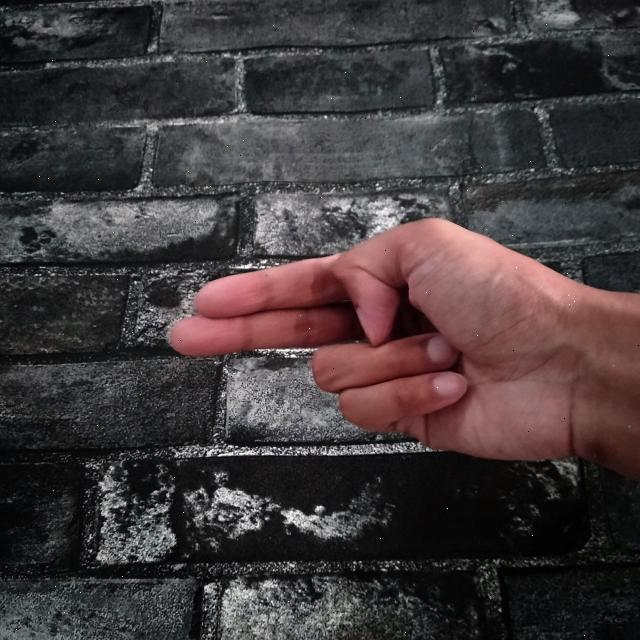H: (159, 211, 640, 493)
